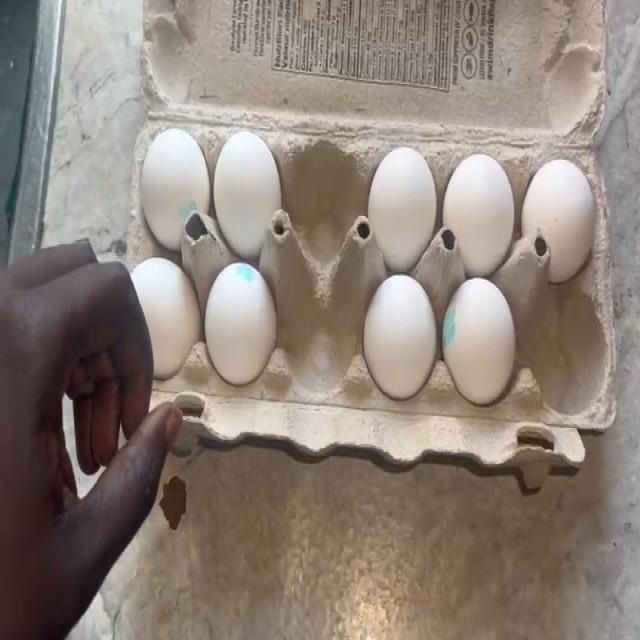Egg: (523, 150, 598, 268), (204, 262, 278, 368), (446, 279, 515, 388), (132, 256, 198, 366), (368, 275, 432, 388), (450, 152, 514, 265), (220, 136, 282, 250), (369, 148, 434, 254), (142, 128, 207, 228)
